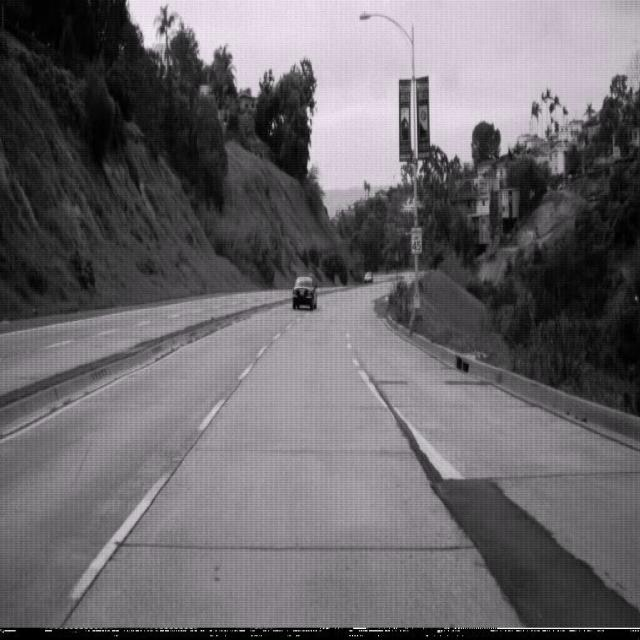speedLimit45: (410, 226, 422, 255)
